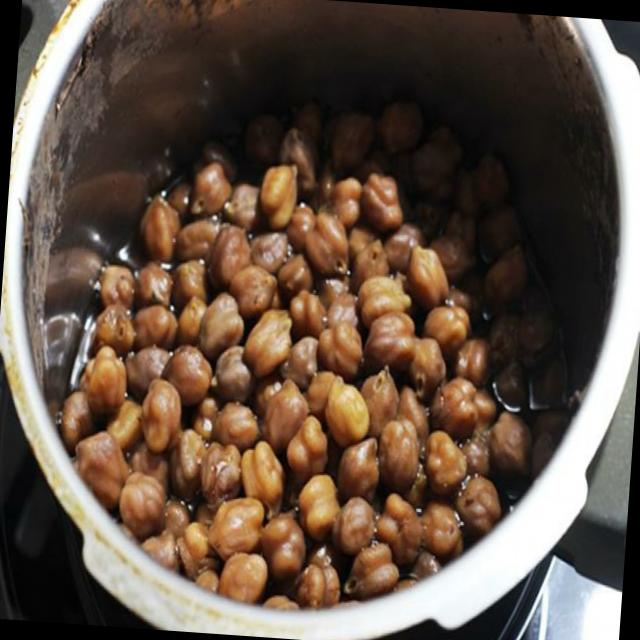Chole: (50, 76, 590, 628)
